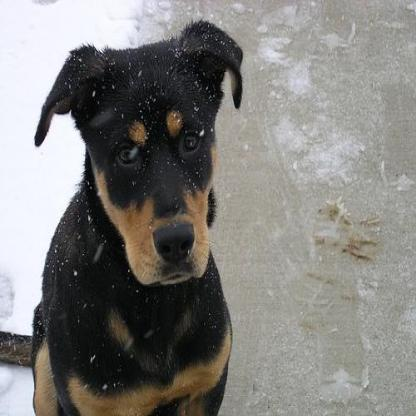Rottweiler: (29, 15, 243, 414)
